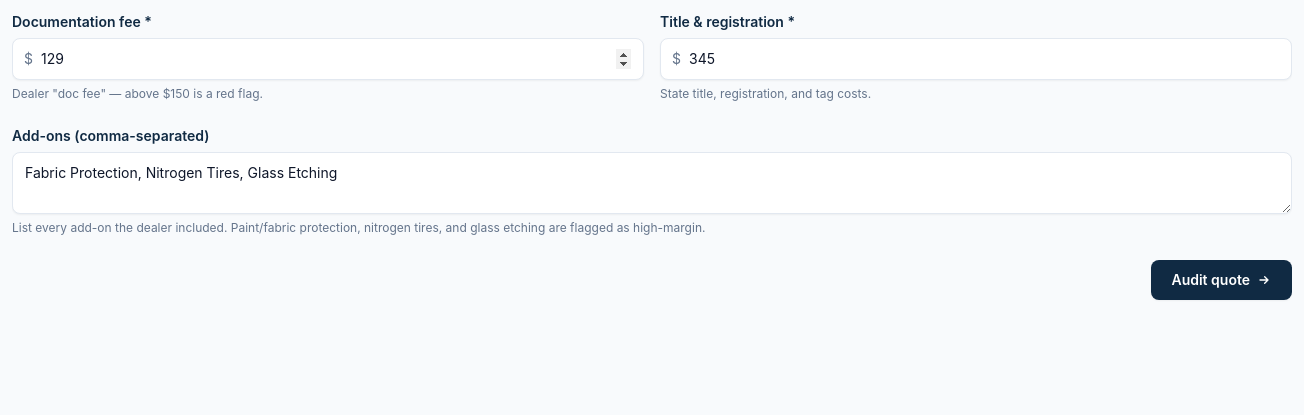
Test case: FeeAuditor › returns no flags for a clean quote
Type "99" into the number field labelled "Documentation fee *" at (328, 59), box [12,38,644,80]
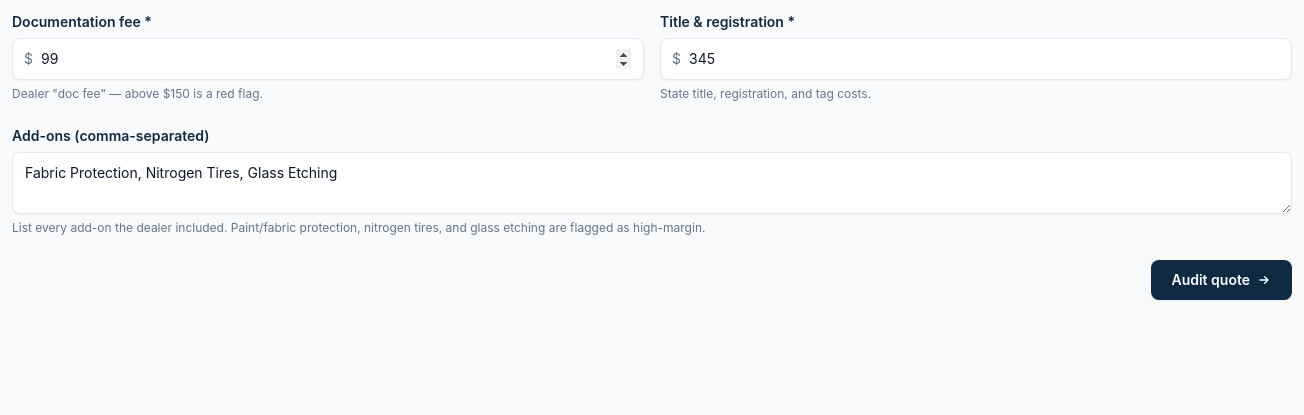
Type "Extended Warranty" into the text box labelled "Add-ons (comma-separated)" at (652, 183), box [12,152,1292,214]
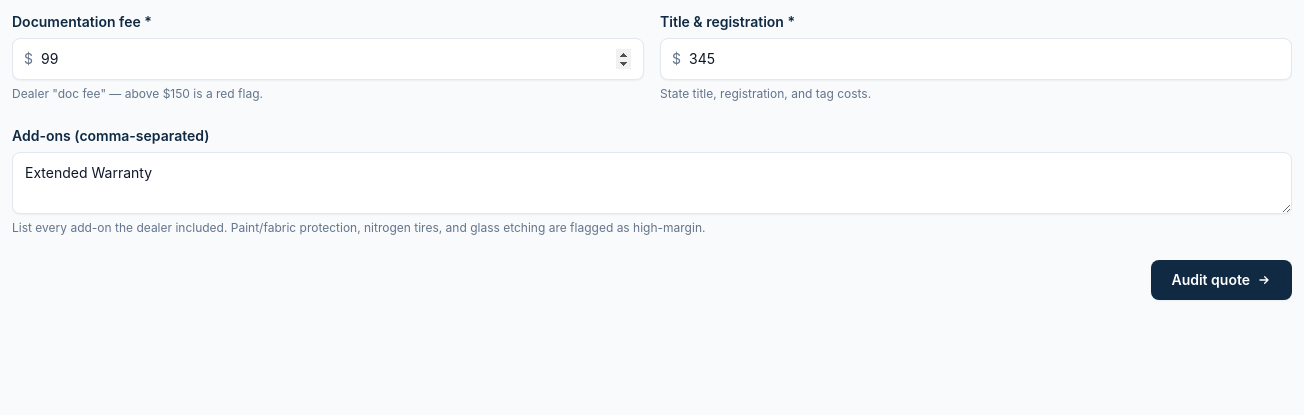
Click the button "Audit quote" at (1222, 280), box [1152,260,1292,300]
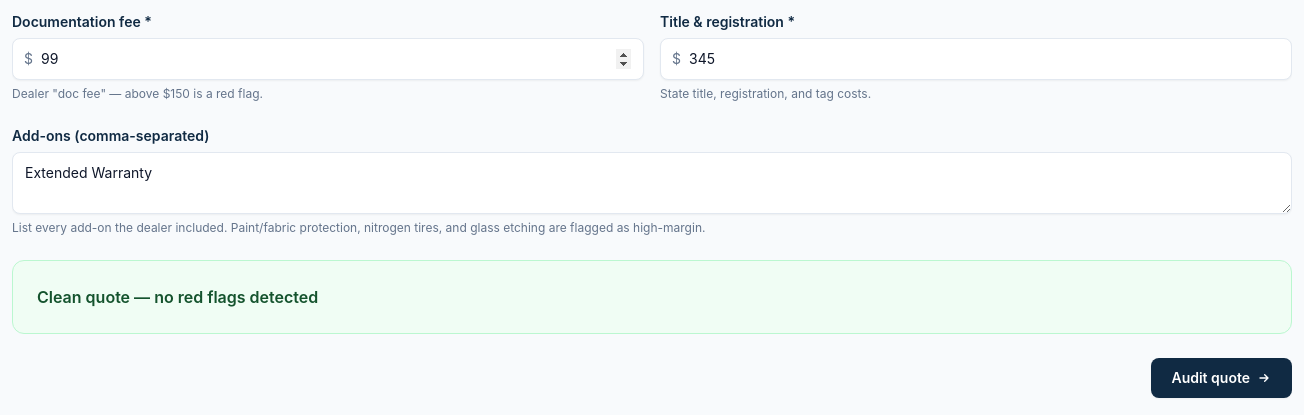
Expected: the text "Clean quote — no red flags detected" is shown, [37,287,318,307]
